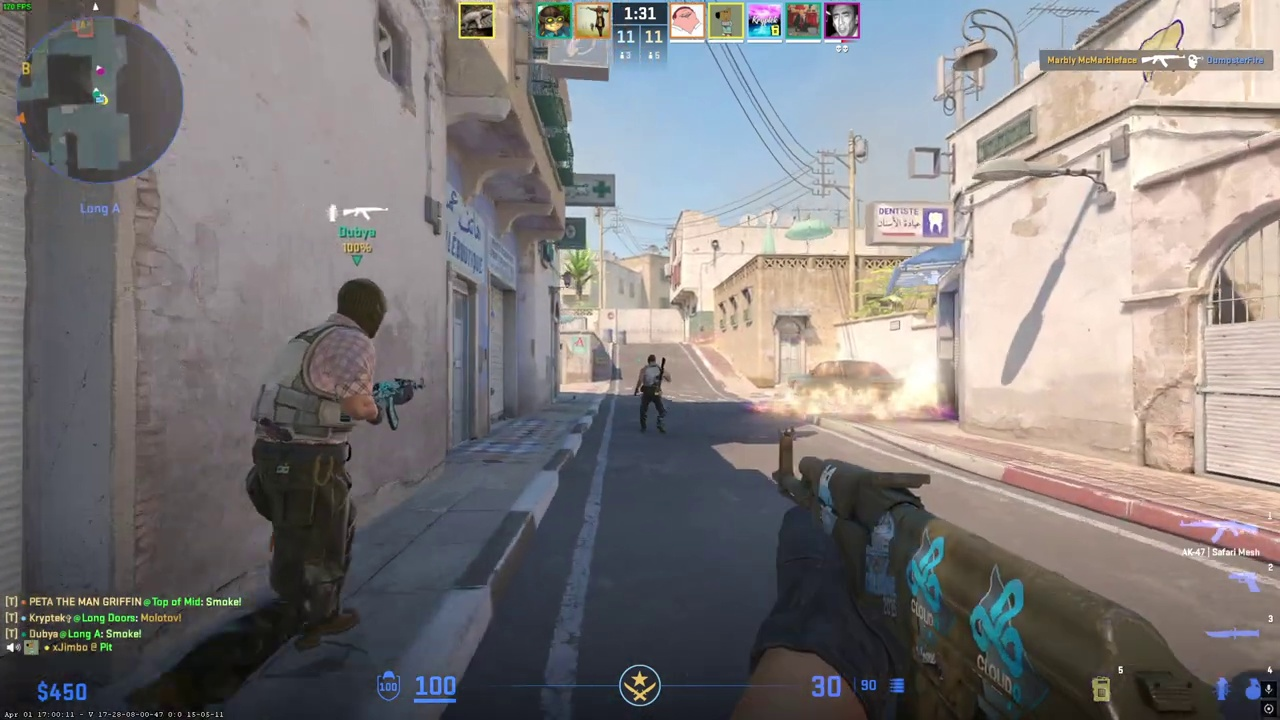Terrorist: (248, 278, 389, 645), (637, 354, 669, 434)
